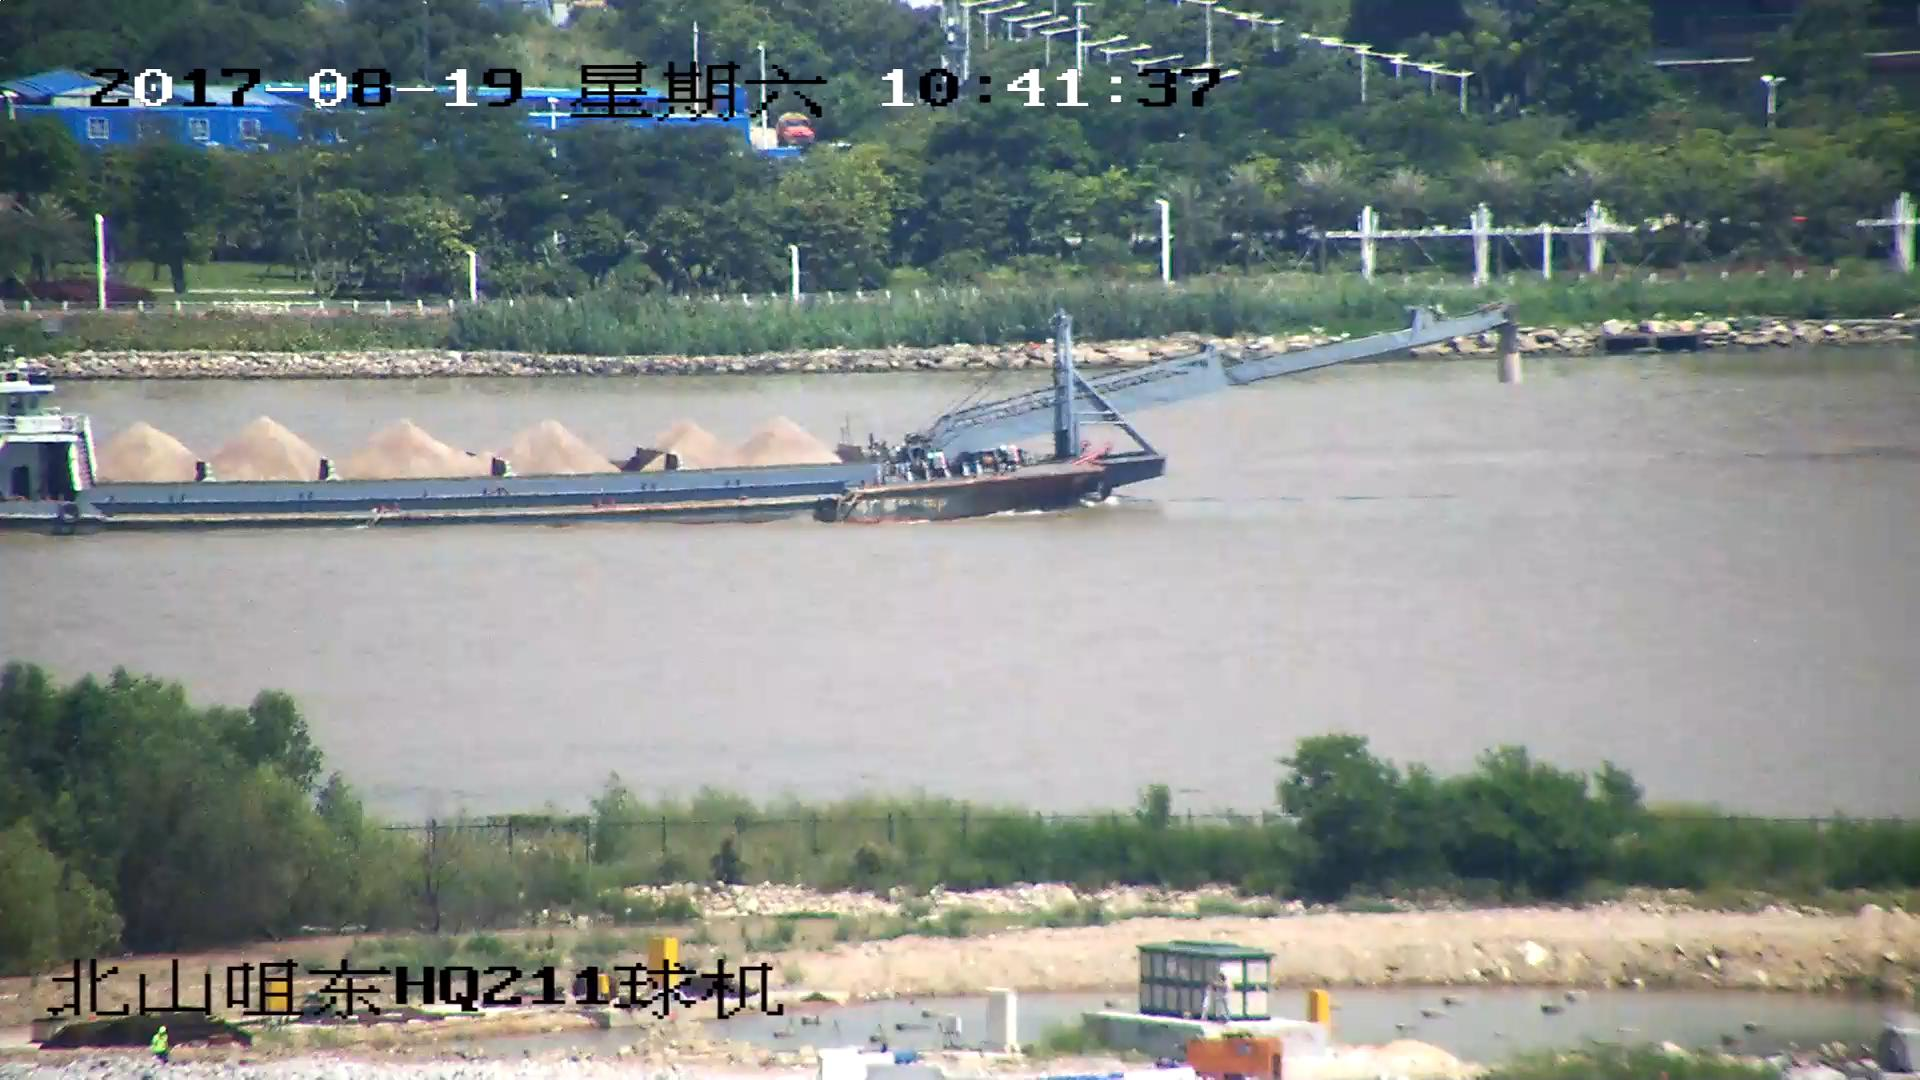ore carrier: (1, 304, 1511, 535)
